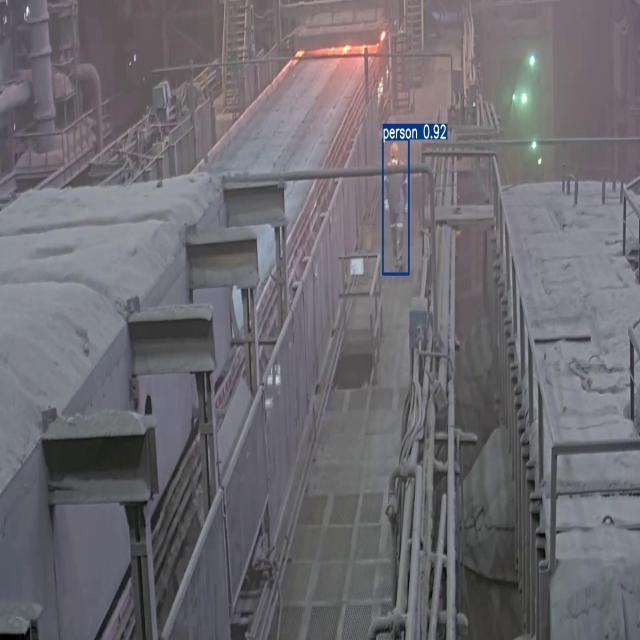safety_helmet: (383, 139, 409, 274)
